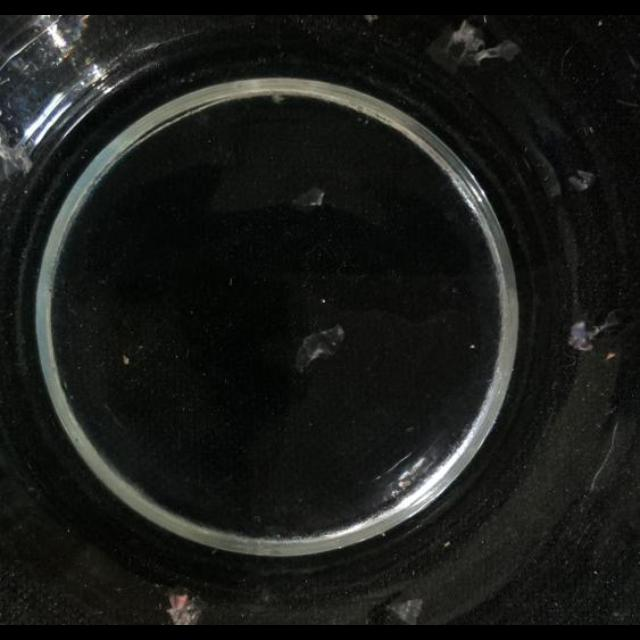Fibre: (294, 323, 344, 372), (569, 313, 619, 352), (444, 18, 486, 64), (378, 596, 424, 624), (472, 39, 520, 65), (568, 170, 596, 192), (270, 93, 286, 103)
Film: (291, 187, 325, 209)
Fragment: (166, 588, 204, 626)
microbeads: (122, 356, 130, 366), (443, 540, 451, 548), (228, 278, 234, 286)
